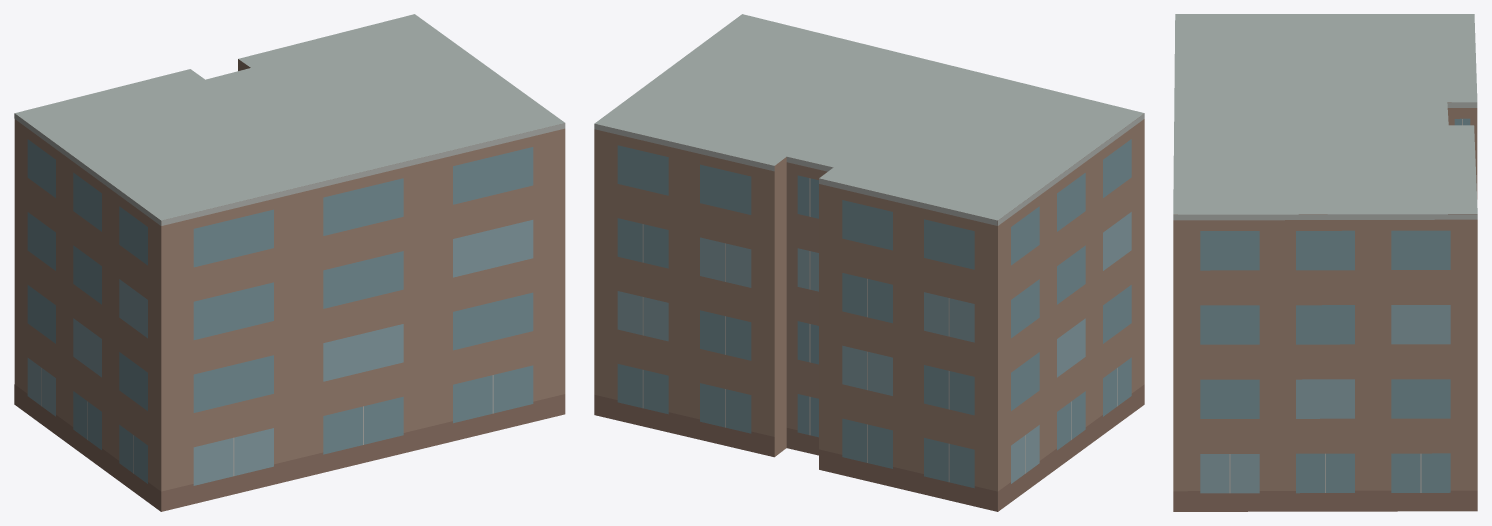
File: survey-upis-32770282.glb
3 renders of one model, left to right at view 1: azimuth 30°, elevation 25°; view 2: azimuth 150°, elevation 25°; view 3: azimuth 270°, elevation 25°, orthographic. The views are drawn at different scales.
Parts seen in each view (by area): view 1: survey-upis-32770282.tmp; view 2: survey-upis-32770282.tmp; view 3: survey-upis-32770282.tmp.
Boxes of the visible parts, x1,y1,x2,y2 form: survey-upis-32770282.tmp: [14, 14, 565, 511]; survey-upis-32770282.tmp: [594, 14, 1144, 511]; survey-upis-32770282.tmp: [1173, 14, 1477, 511].
Size of the model in its own units: 18.56 by 12.8 by 11.9.
